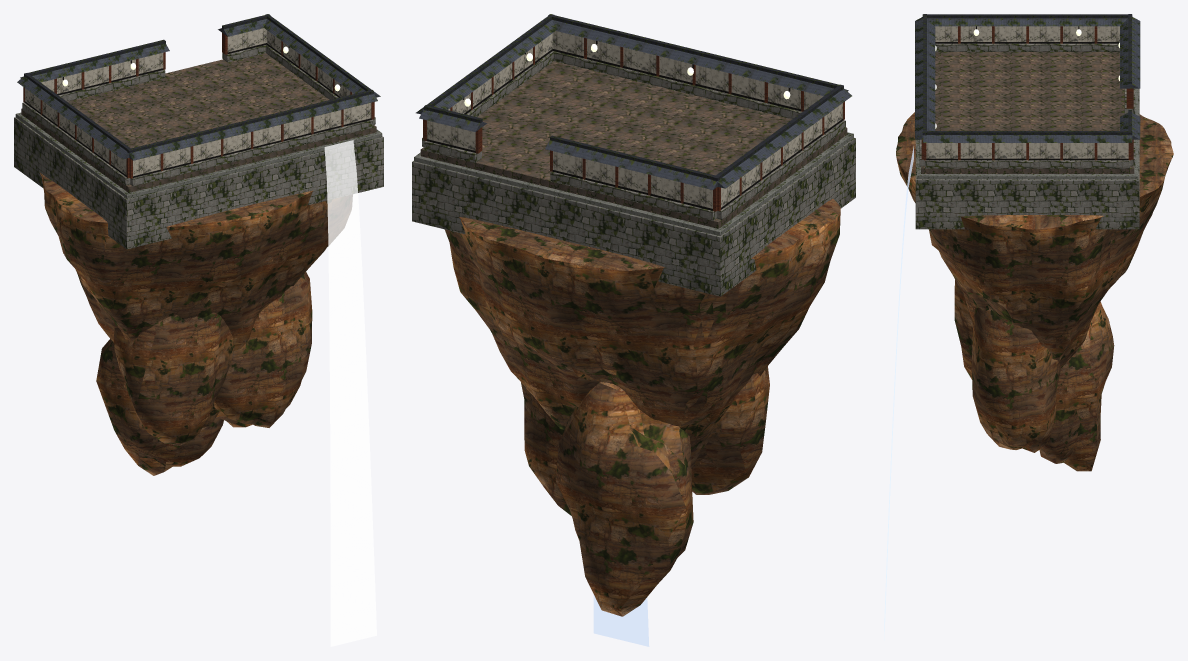
File: Room_CombatC.fbx
3 views of the same model, side by side, from view 1: azimuth 30°, elevation 25°; view 2: azimuth 150°, elevation 25°; view 3: azimuth 270°, elevation 25° (orthographic). The views are drawn at different scales.
Visible parts, largest first — view 1: CombatC_Structure_LOD0, CombatC_Rock_LOD0, Waterfall_6; view 2: CombatC_Structure_LOD0, CombatC_Rock_LOD0, Waterfall_6; view 3: CombatC_Structure_LOD0, CombatC_Rock_LOD0, Waterfall_6.
Boxes of the visible parts, bbox=[...] form: CombatC_Structure_LOD0: bbox=[14, 14, 383, 249]; CombatC_Rock_LOD0: bbox=[39, 172, 352, 475]; Waterfall_6: bbox=[324, 140, 376, 646]; CombatC_Structure_LOD0: bbox=[412, 14, 855, 296]; CombatC_Rock_LOD0: bbox=[444, 198, 840, 616]; Waterfall_6: bbox=[593, 594, 649, 646]; CombatC_Structure_LOD0: bbox=[915, 14, 1140, 229]; CombatC_Rock_LOD0: bbox=[896, 112, 1173, 471]; Waterfall_6: bbox=[884, 146, 913, 640].
Size of what is drawn, in the model's own units: 29.5 by 48.65 by 24.43.
